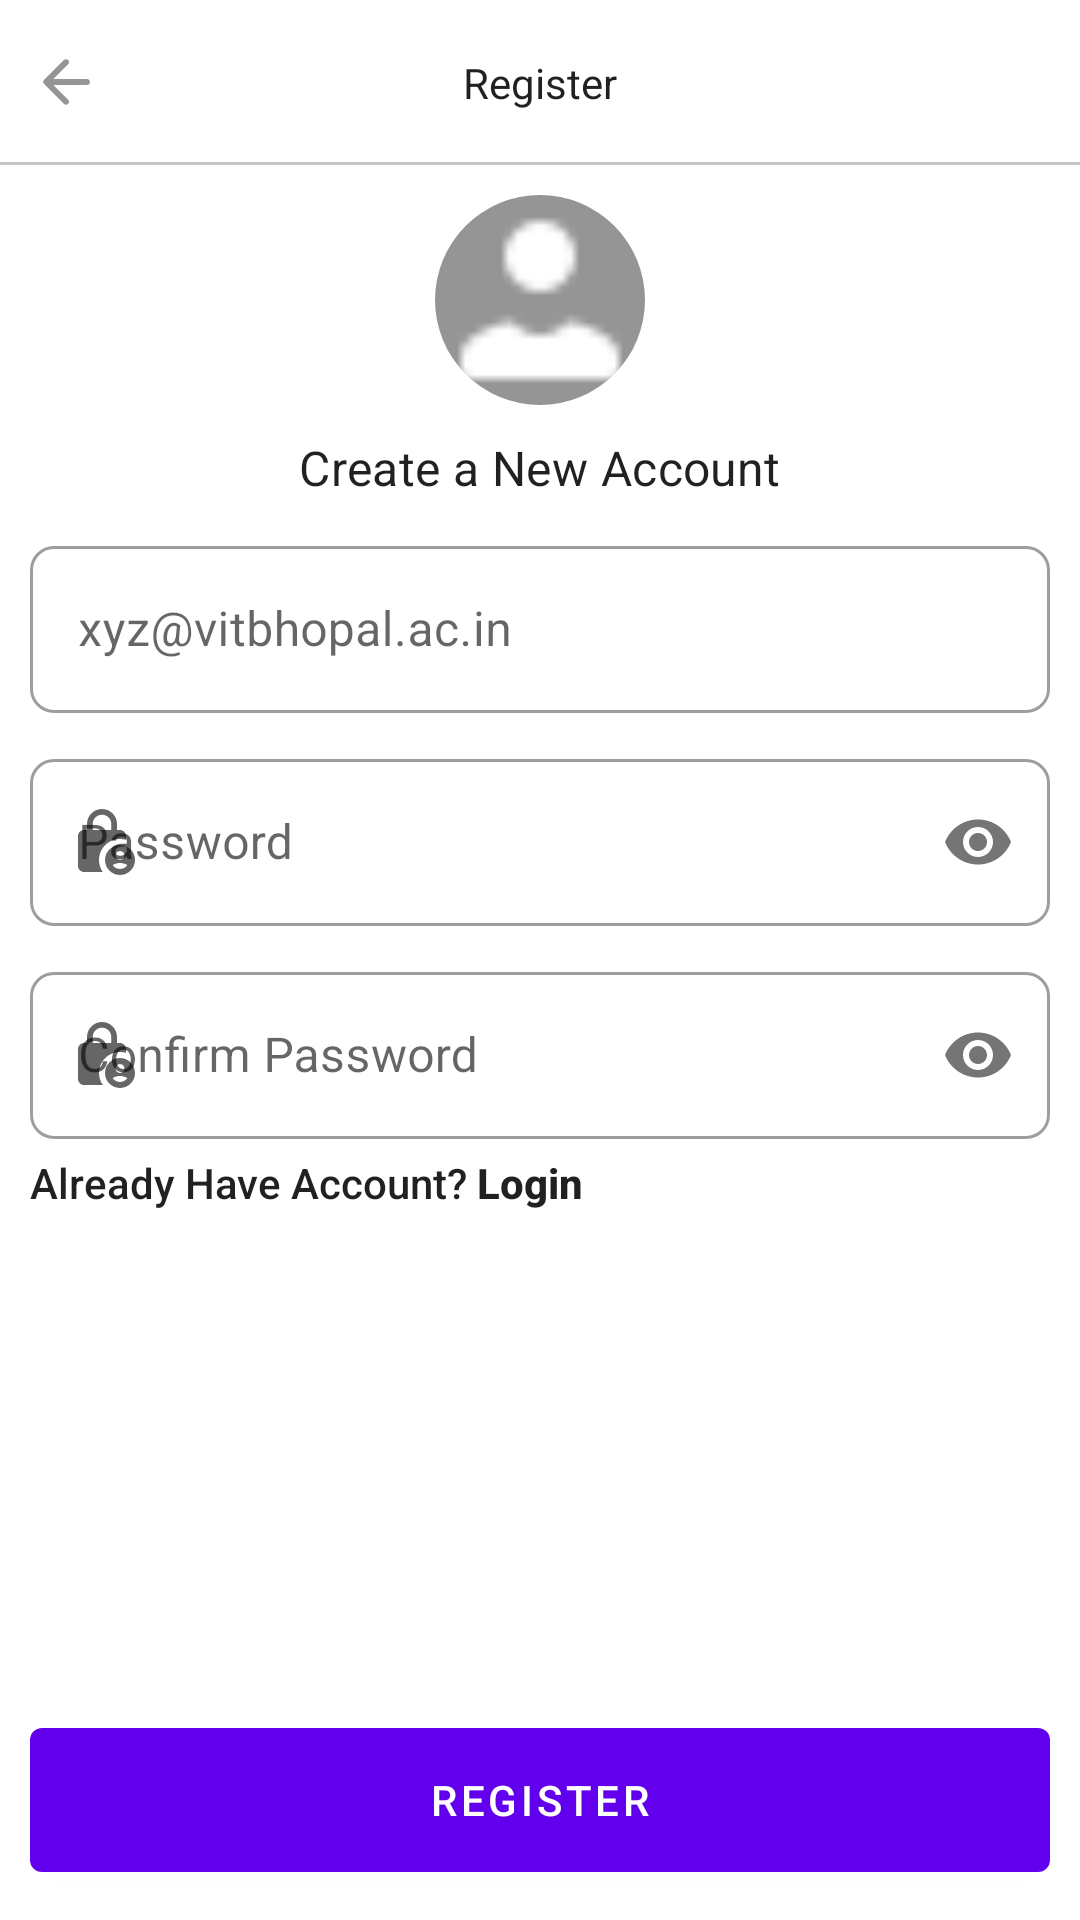

Where to tap for icons on this 1080px×1920px app screen, as (x,y):
back: (66,82)
person: (540,300)
